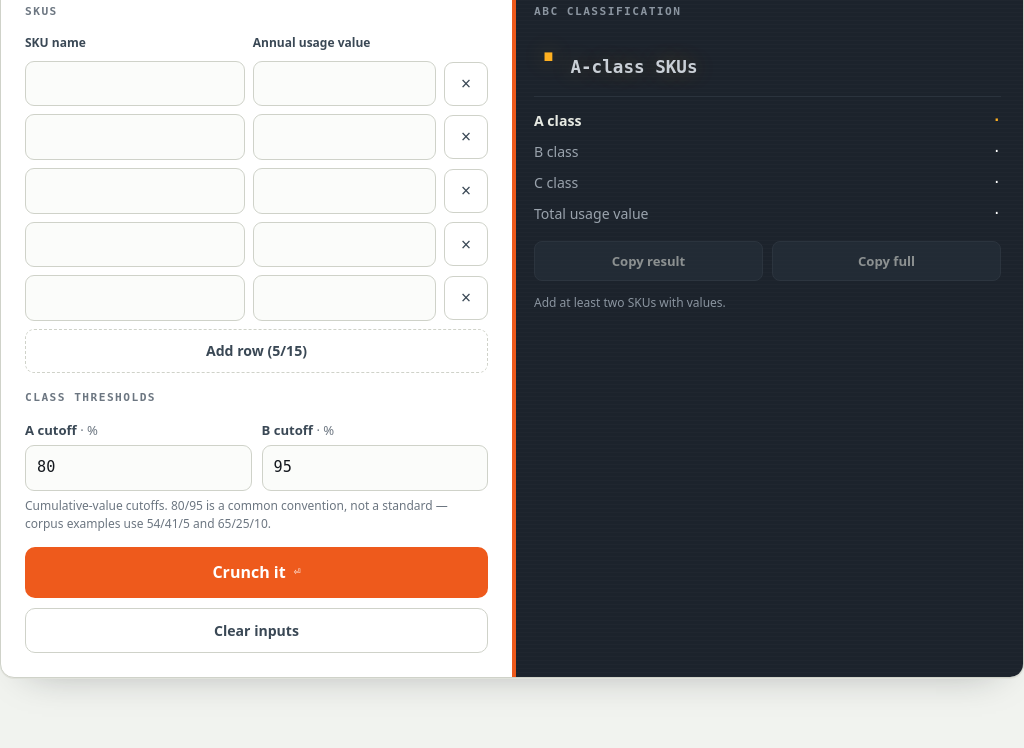
Test: AbcCalculator › re-ranks: the largest value is rank 1 regardless of entry order
Type "small" into the field named "SKU 1 name" at {"x": 135, "y": 84}, box [25,61,245,106]
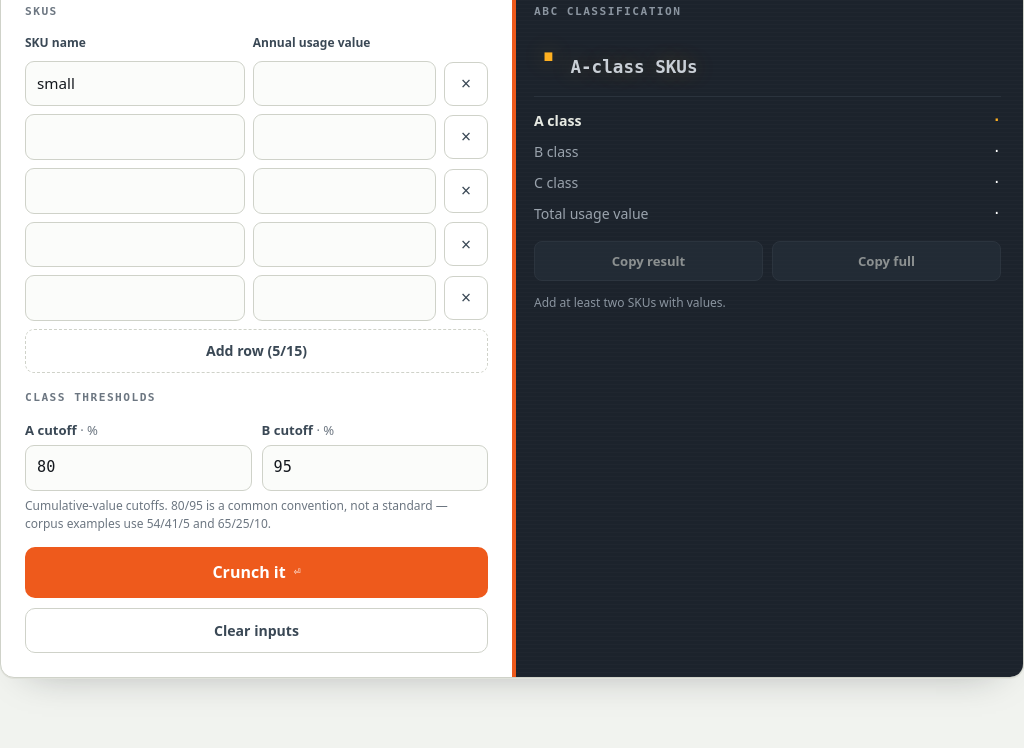
Type "10" into the number field named "SKU 1 annual usage value" at {"x": 344, "y": 84}, box [253,61,436,106]
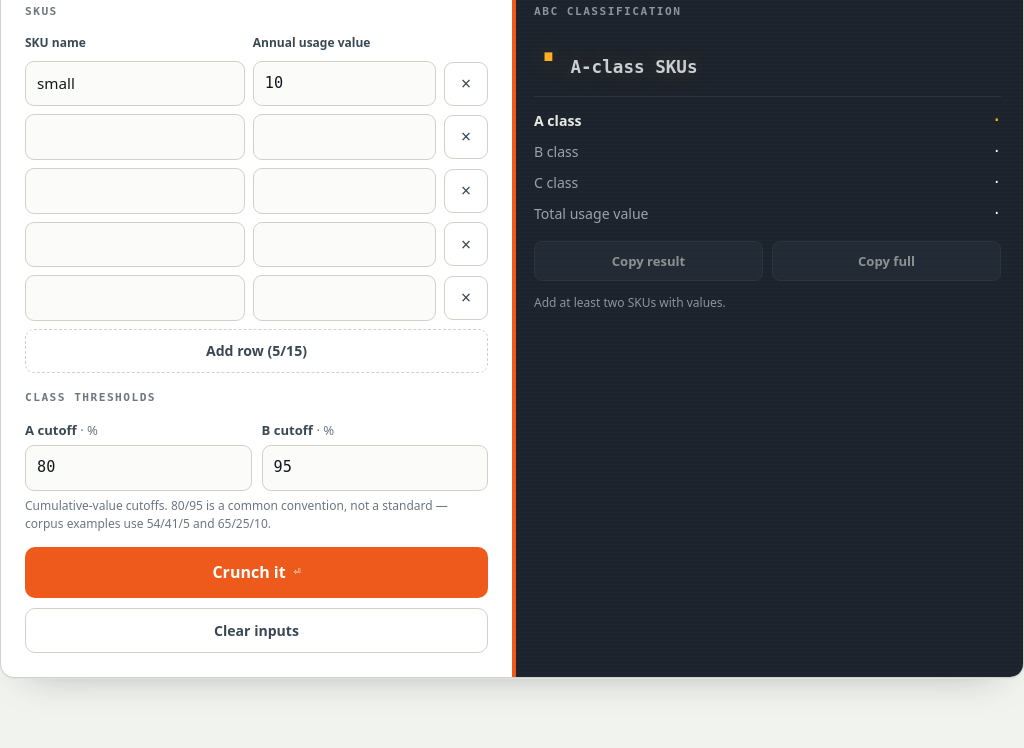
Type "large" into the field named "SKU 2 name" at {"x": 135, "y": 137}, box [25,114,245,160]
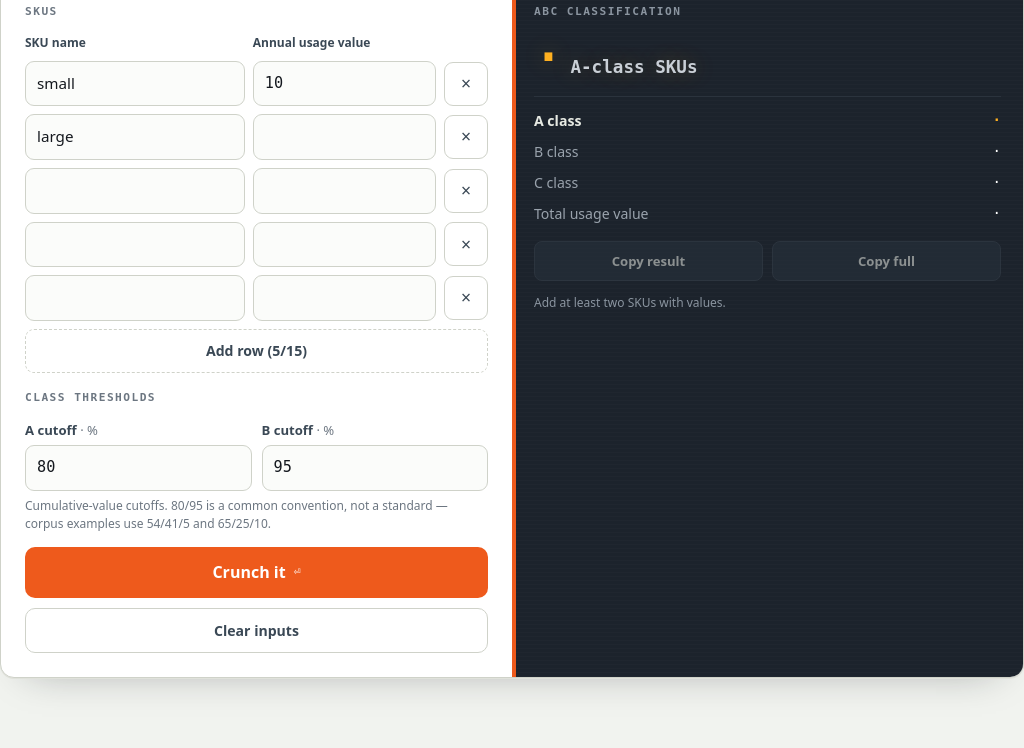
Type "90" into the number field named "SKU 2 annual usage value" at {"x": 344, "y": 137}, box [253,114,436,160]
(page scrolled)
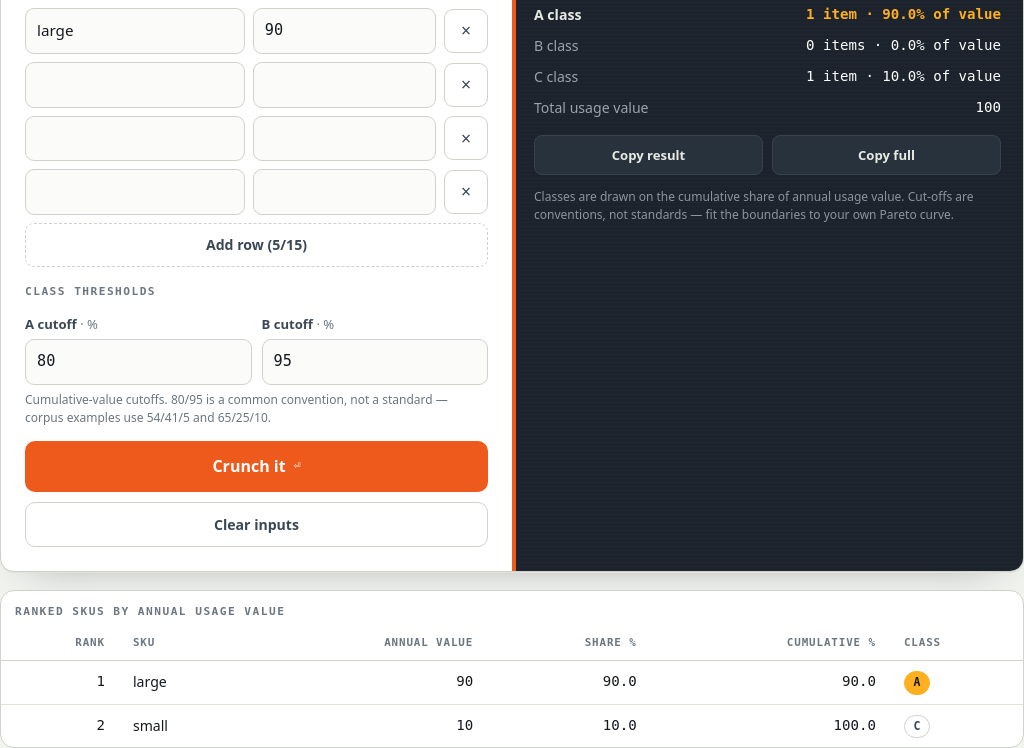
Expected: the cell with test id "abc-name-1" reads "large", [133,672,167,691]
Expected: the cell with test id "abc-name-2" reads "small", [133,716,168,735]
Expected: the text with test id "abc-class-1" reads "A", [913,675,920,689]
